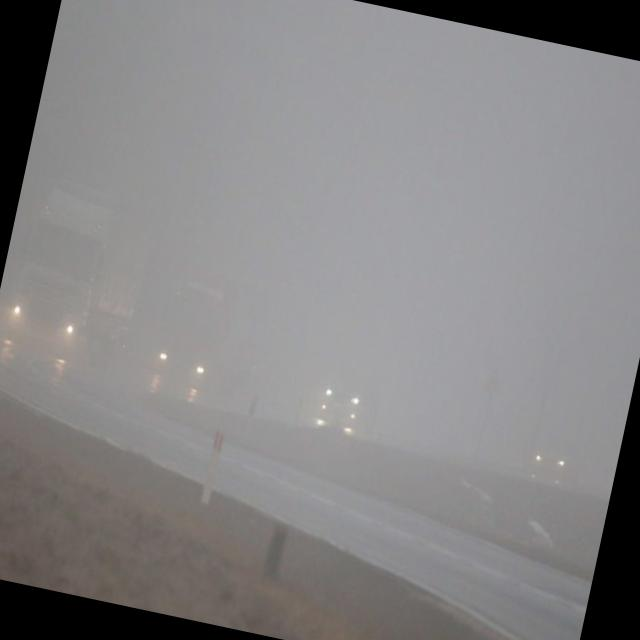car: (317, 359, 385, 430), (530, 432, 586, 480)
